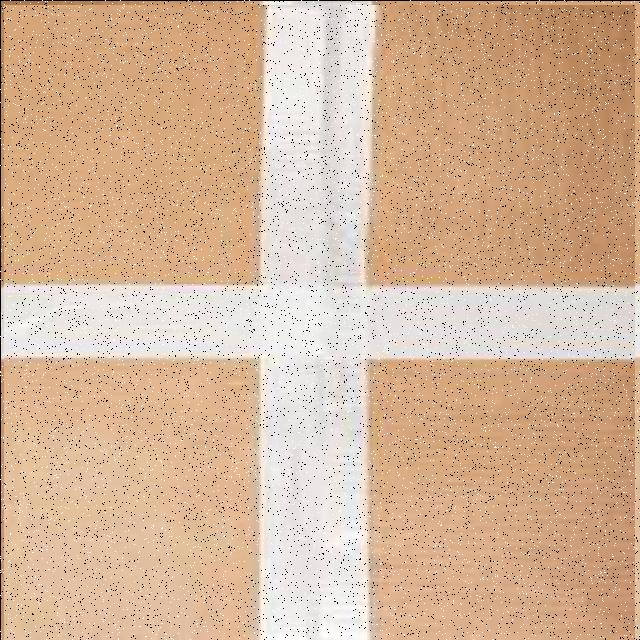normal: (3, 4, 634, 640)
